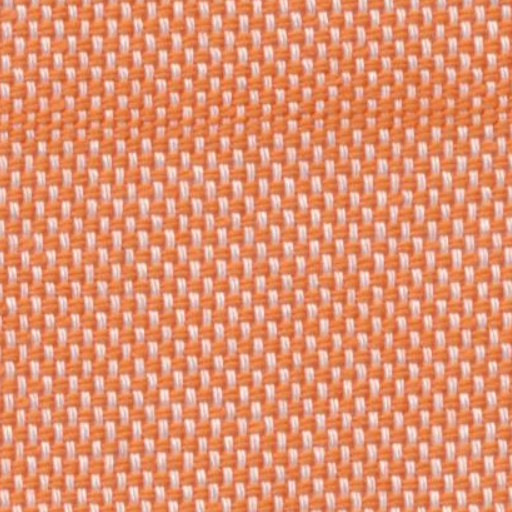TuoSha: (13, 79, 494, 166)
